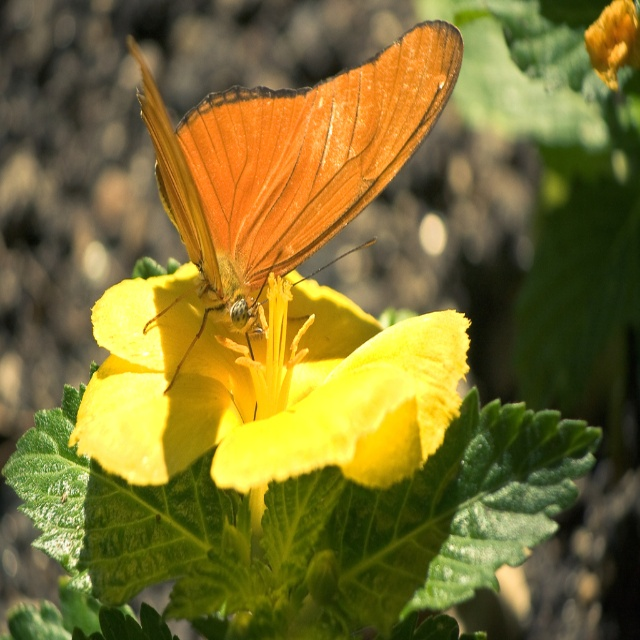Butterfly: (128, 20, 464, 422)
